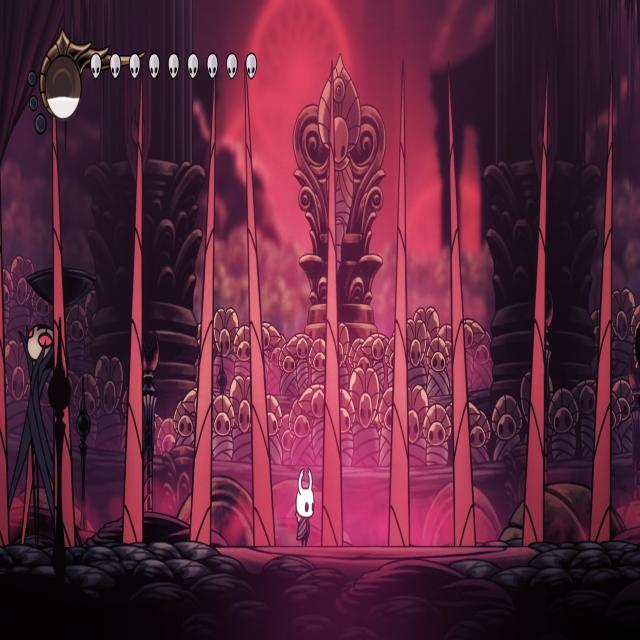Grimm: (4, 307, 71, 544)
Player: (291, 463, 318, 547)
Spikes: (248, 86, 274, 548), (190, 107, 213, 547), (388, 118, 411, 549), (452, 137, 476, 547), (52, 77, 73, 543), (590, 108, 612, 543), (321, 117, 343, 546), (122, 123, 144, 543), (525, 107, 545, 546)
